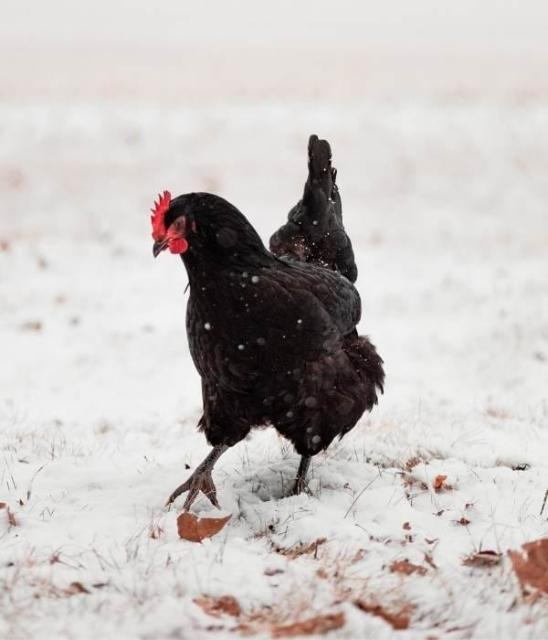Chicken: (150, 132, 388, 511)
